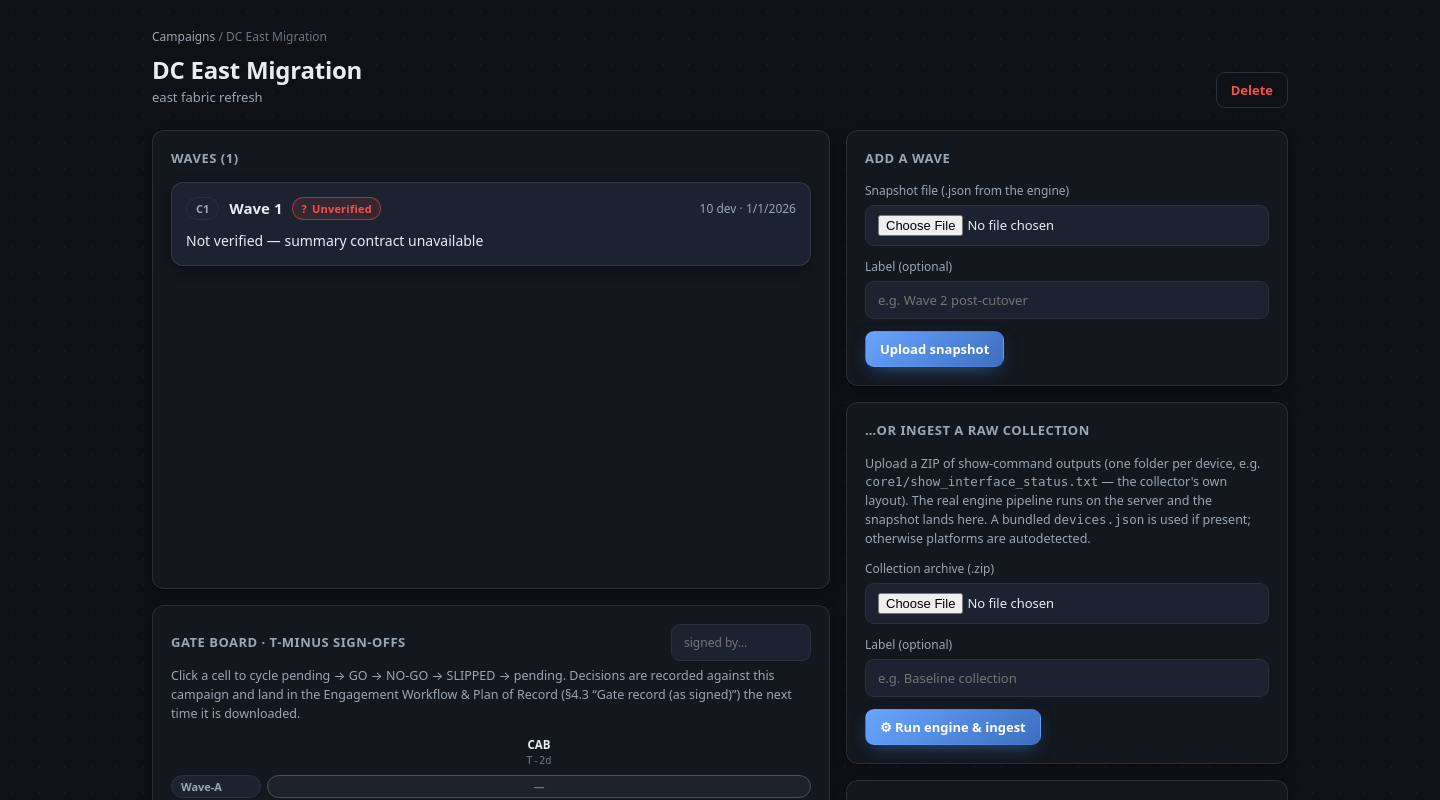
Test: CampaignPage › cycles a gate cell pending → GO and records it against the campaign
Click the button "—". click: {"x": 539, "y": 786}
box: [267, 774, 811, 798]
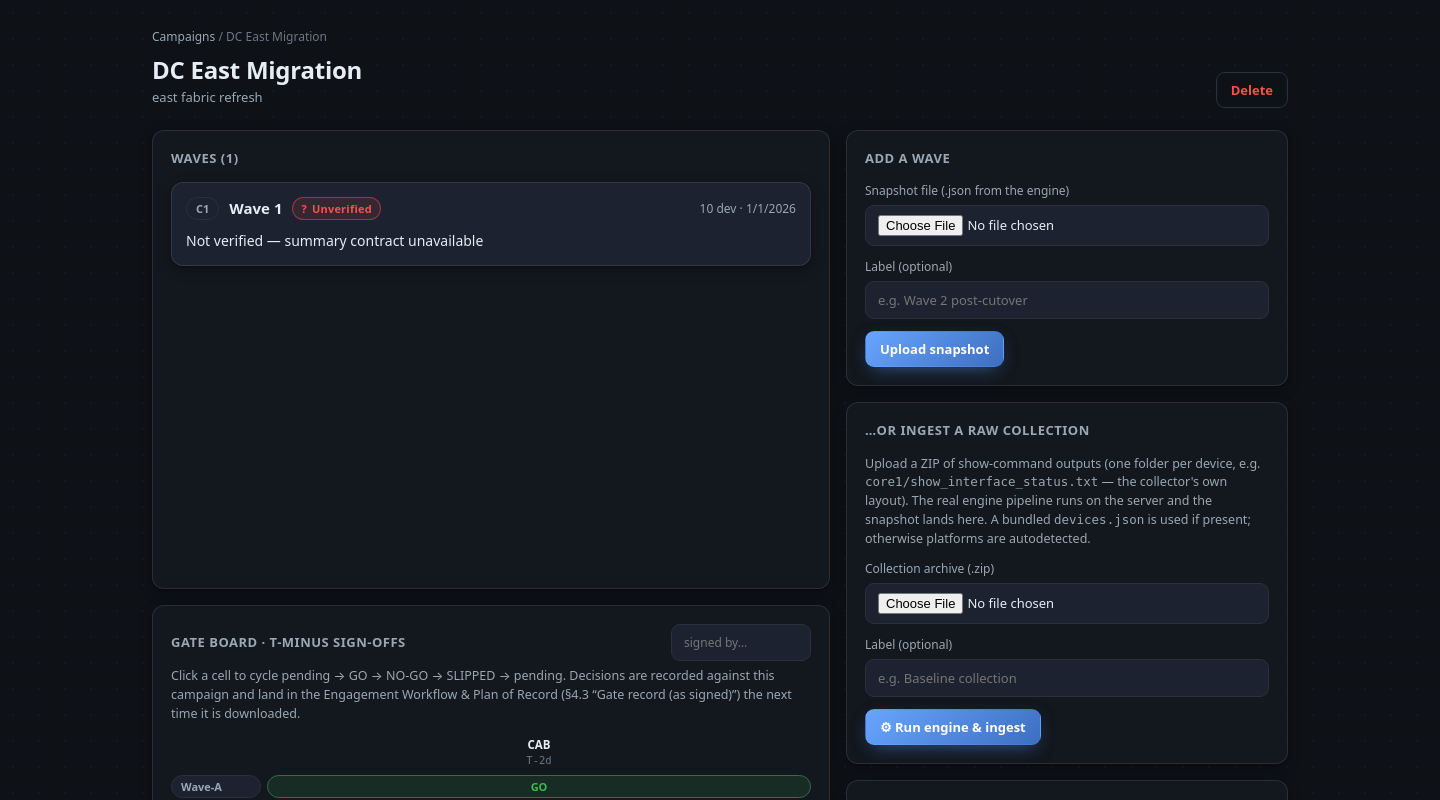
Expected: the button "GO" is shown, [267, 774, 811, 798]
